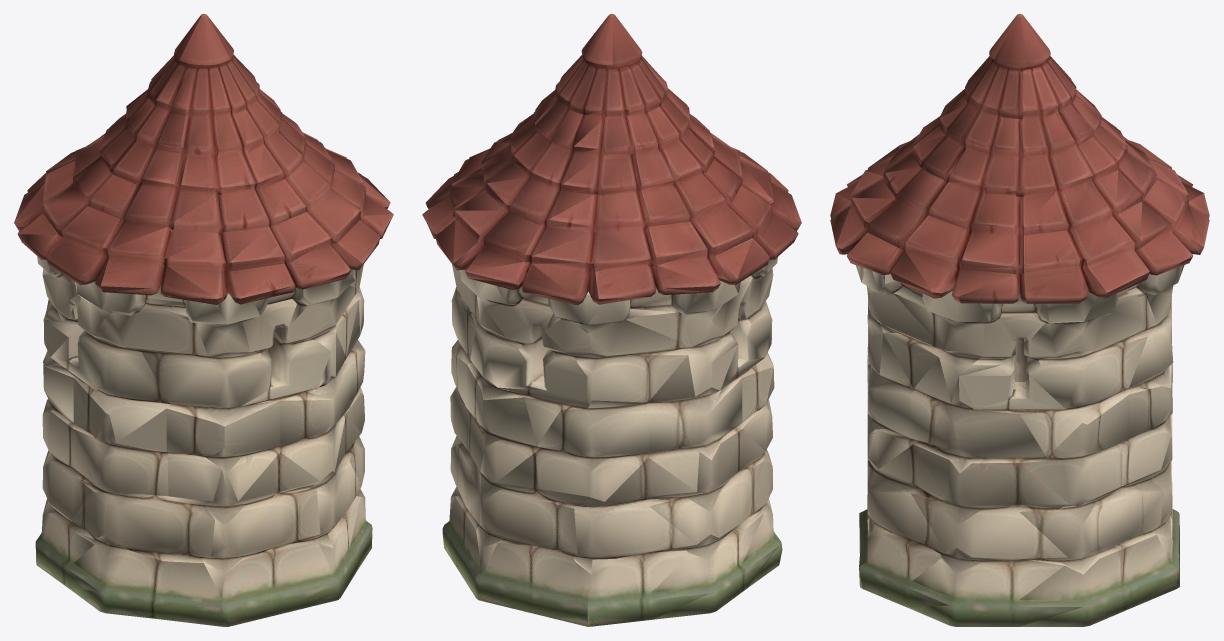
File: source.glb
The picture shows the model from 3 angles, left to right: view 1: azimuth 30°, elevation 25°; view 2: azimuth 150°, elevation 25°; view 3: azimuth 270°, elevation 25°; orthographic projection.
Visible parts, largest first — view 1: Mesh_0; view 2: Mesh_0; view 3: Mesh_0.
Part boxes in pixels (left/top/right/bottom): Mesh_0: left=14, top=14, right=393, bottom=626; Mesh_0: left=422, top=14, right=801, bottom=626; Mesh_0: left=830, top=14, right=1209, bottom=626.
Size of the model in its own units: 0.5928 by 0.9517 by 0.6001.
Materials: 1 (1 with a texture image).
